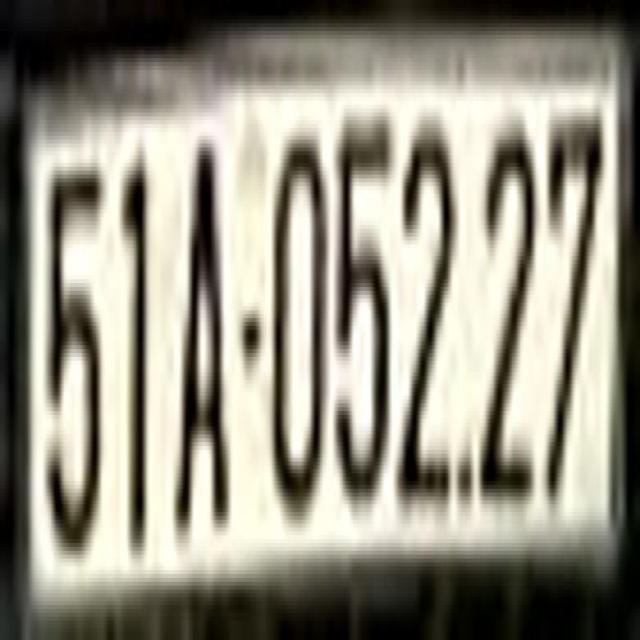0: (272, 143, 330, 516)
1: (120, 147, 144, 555)
2: (400, 116, 458, 508), (482, 105, 532, 492)
5: (46, 151, 105, 547), (334, 101, 392, 485)
7: (544, 97, 609, 500)
A: (174, 144, 228, 532)
